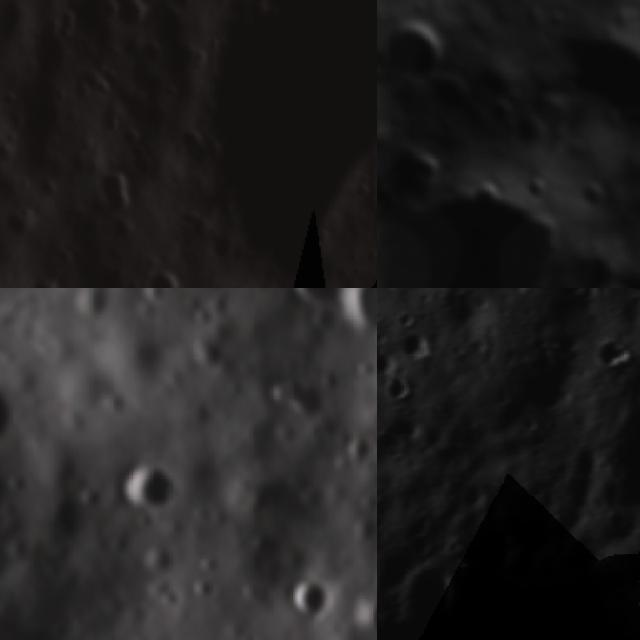crater: (189, 0, 377, 288), (377, 130, 598, 288), (540, 0, 640, 146), (377, 0, 467, 95), (110, 446, 194, 530), (603, 359, 640, 511), (264, 364, 338, 432), (400, 554, 466, 623), (467, 46, 532, 110), (468, 516, 526, 587), (282, 567, 342, 629), (236, 400, 294, 458), (86, 157, 137, 222), (501, 102, 557, 160), (330, 288, 377, 351), (136, 257, 223, 288), (303, 295, 355, 346), (0, 378, 30, 463), (98, 0, 153, 41), (279, 288, 359, 316), (347, 578, 377, 640), (584, 336, 634, 373), (395, 317, 437, 361), (404, 143, 447, 185), (0, 202, 38, 245), (574, 175, 610, 212), (517, 167, 553, 204), (608, 254, 640, 288), (377, 337, 404, 377), (115, 125, 152, 154), (383, 370, 414, 401), (549, 288, 600, 306), (38, 173, 62, 206), (395, 302, 419, 328), (0, 131, 17, 166), (24, 274, 64, 288), (377, 386, 382, 411)
